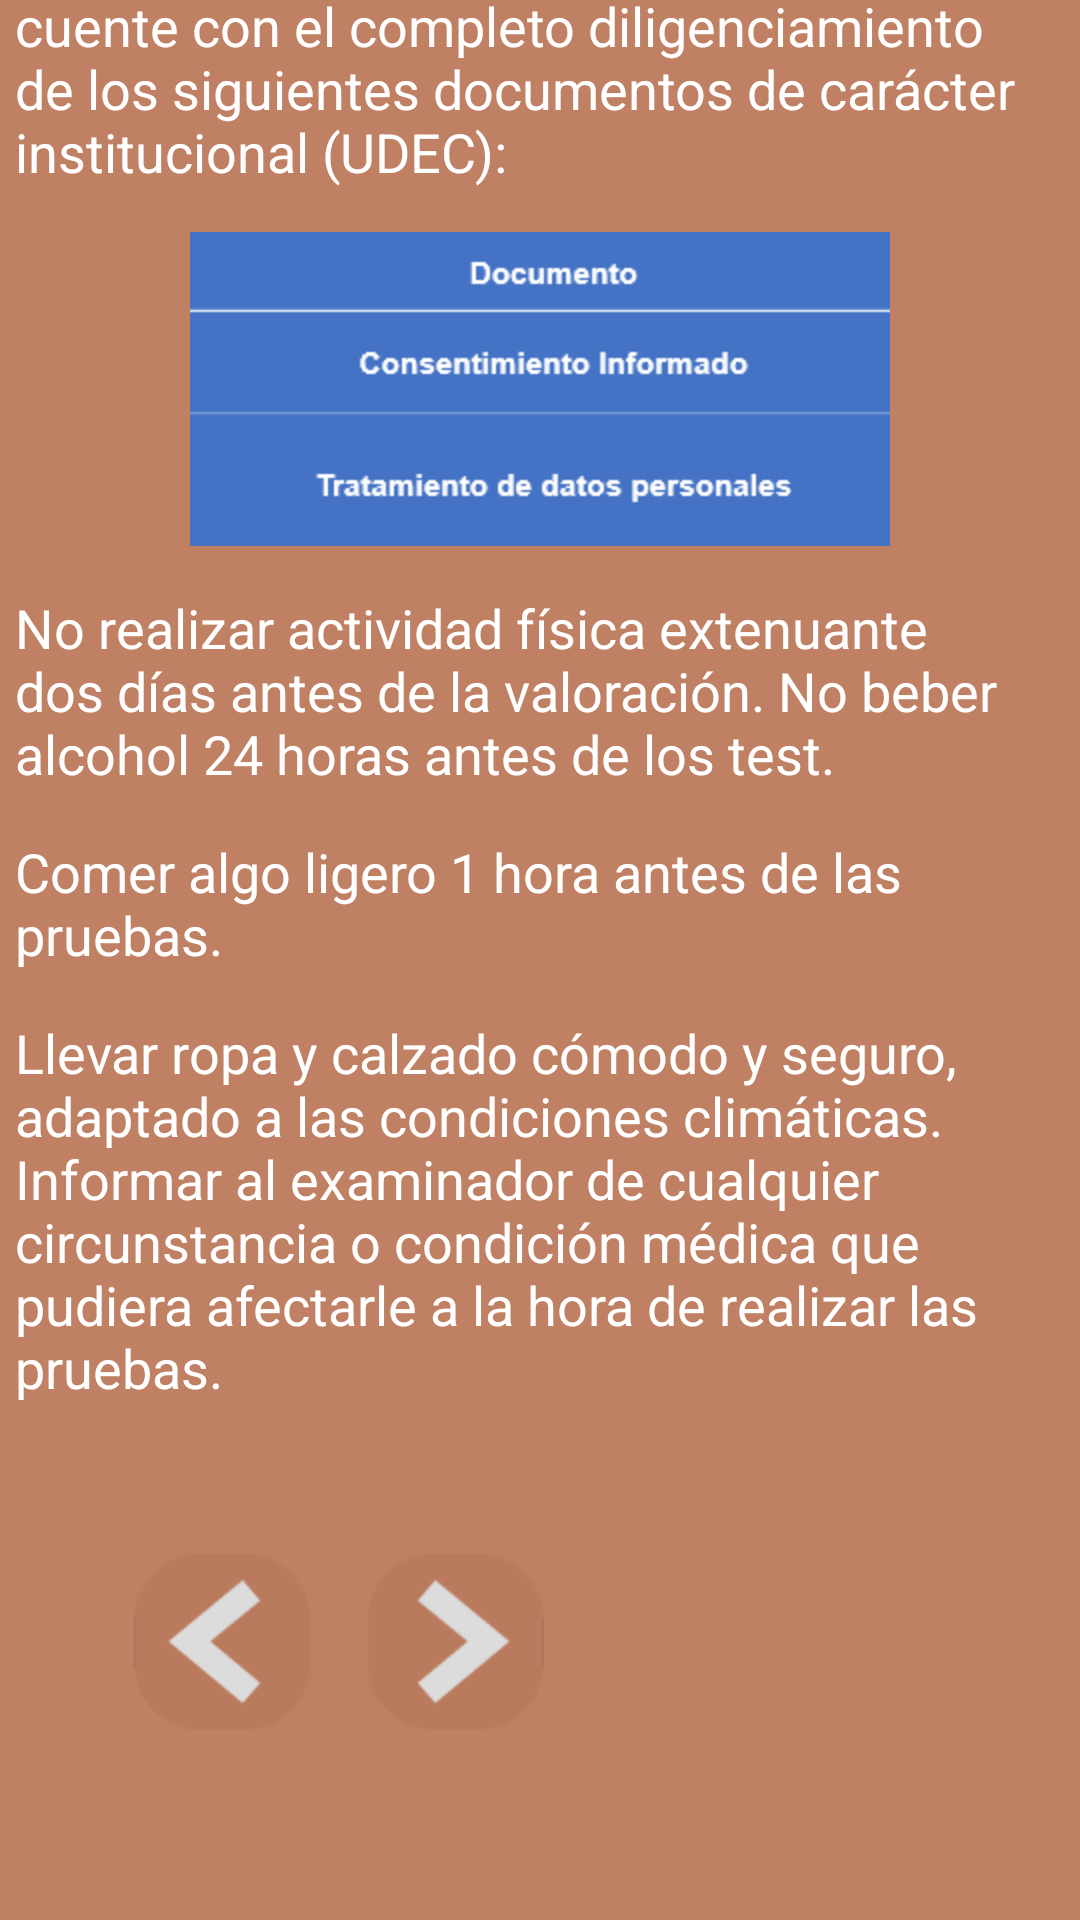

Point at icon controls on the screen. Image size 1080×1920, points as (x=x, y=y).
regresar: (x=214, y=1641)
seguir: (x=463, y=1641)
